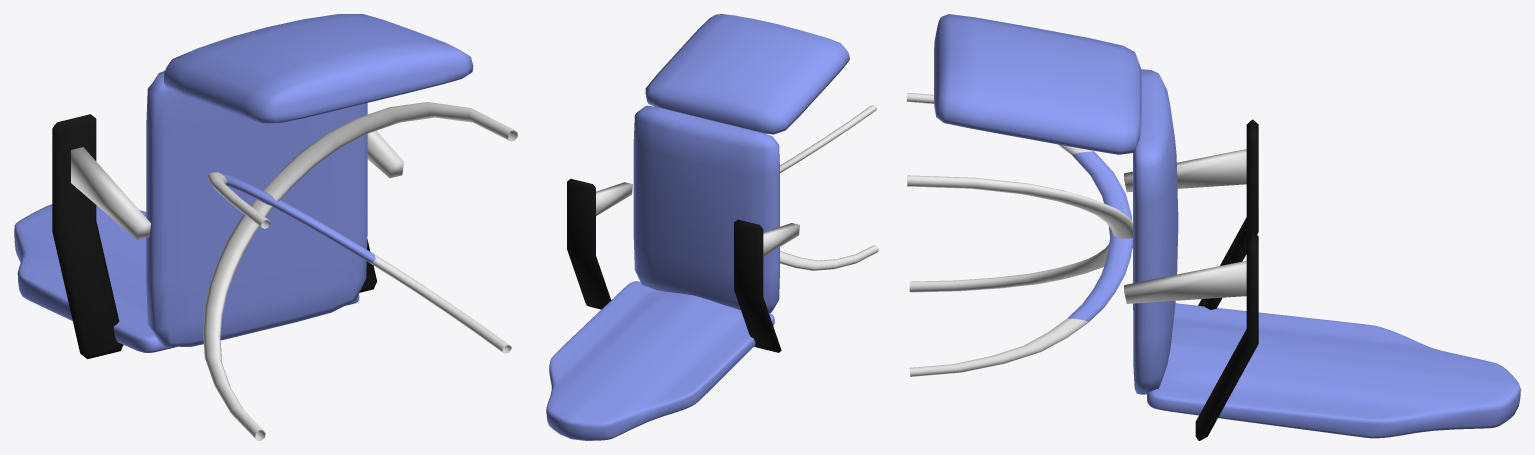
3 views of the same model, side by side, from view 1: azimuth 30°, elevation 25°; view 2: azimuth 150°, elevation 25°; view 3: azimuth 270°, elevation 25° (orthographic). The views are drawn at different scales.
Visible parts, largest first — view 1: Circle; view 2: Circle; view 3: Circle.
Part boxes in pixels (bbox=[...]): Circle: bbox=[14, 14, 517, 440]; Circle: bbox=[546, 14, 878, 440]; Circle: bbox=[907, 14, 1520, 440].
Size of the model in its own units: 67.14 by 86.55 by 133.
